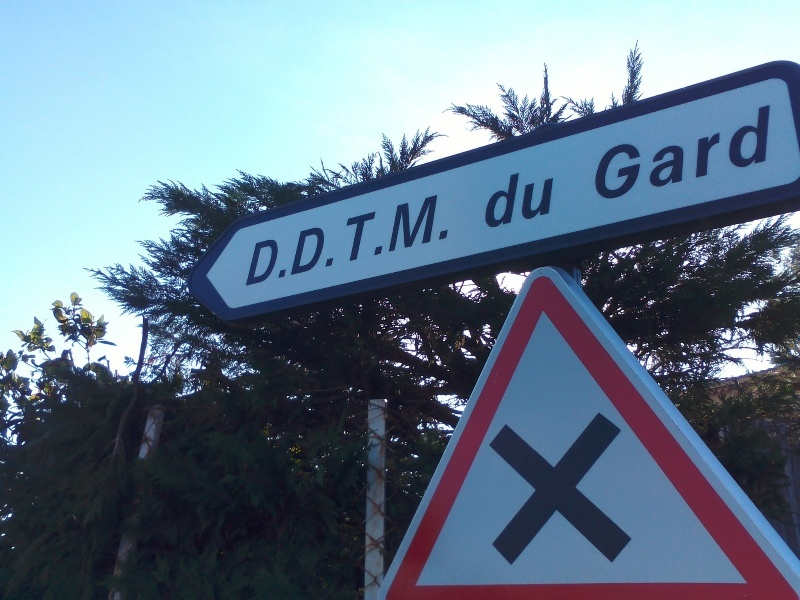text: (609, 102, 624, 205), (625, 102, 640, 205), (641, 102, 656, 205), (657, 102, 672, 205), (673, 102, 688, 205), (689, 102, 704, 205), (705, 102, 720, 205), (721, 102, 736, 205), (737, 102, 752, 205), (753, 102, 768, 205), (257, 189, 272, 288), (273, 189, 288, 288), (289, 189, 304, 288), (305, 189, 320, 288), (321, 189, 336, 288), (337, 189, 352, 288), (353, 189, 368, 288), (369, 189, 384, 288), (385, 189, 400, 288), (401, 189, 416, 288), (417, 189, 432, 288), (433, 189, 448, 288), (597, 102, 608, 205), (497, 165, 512, 233), (513, 165, 528, 233), (529, 165, 544, 233), (545, 165, 555, 233), (769, 102, 775, 205), (487, 165, 496, 233), (449, 189, 452, 288), (254, 189, 256, 288)
